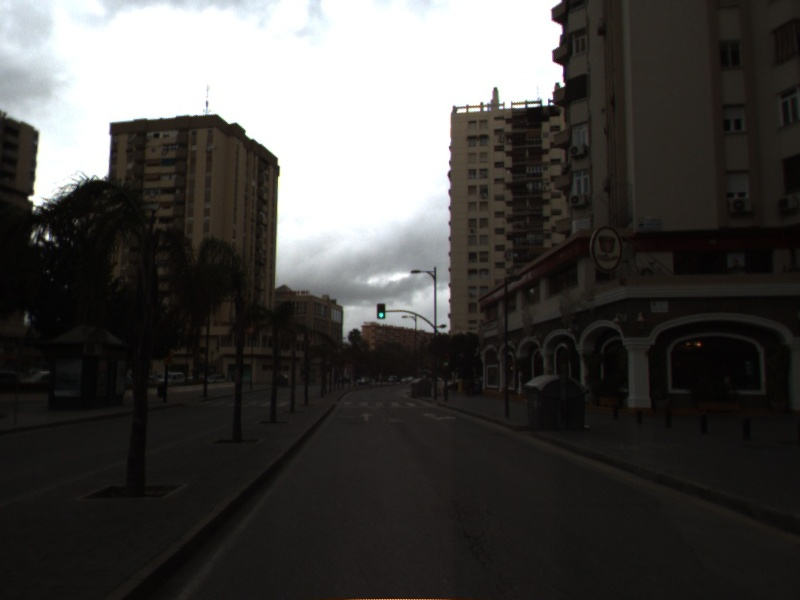STRAIGHT: (356, 410, 377, 424)
STRAIGHT_RIGHT: (420, 409, 460, 424)
